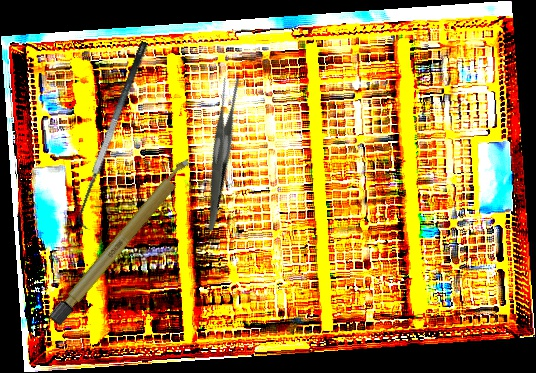Dressing Forceps: (161, 72, 278, 232)
Scalpel Handle: (47, 152, 198, 328)
Spatula Surgical: (67, 40, 164, 231)
